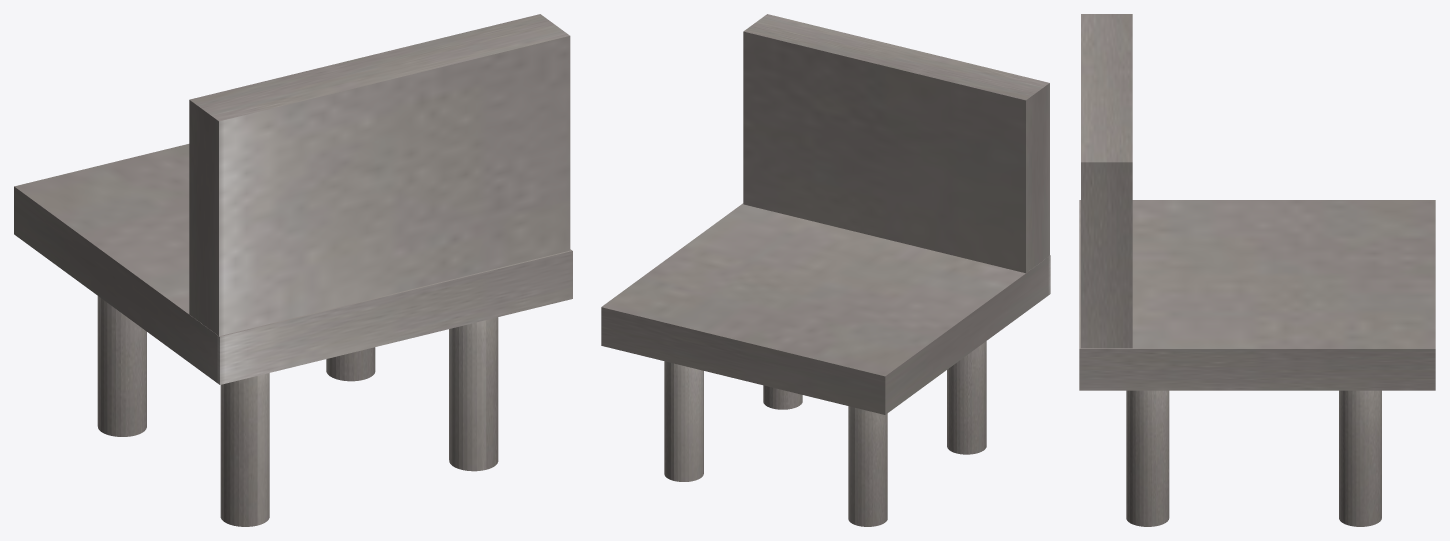
The model's file is chair.glb.
3 renders of one model, left to right at view 1: azimuth 30°, elevation 25°; view 2: azimuth 150°, elevation 25°; view 3: azimuth 270°, elevation 25°, orthographic. The views are drawn at different scales.
Parts seen in each view (by area): view 1: Cube.001; view 2: Cube.001; view 3: Cube.001.
Part boxes in pixels (left/top/right/bottom): Cube.001: left=14, top=14, right=572, bottom=526; Cube.001: left=601, top=14, right=1050, bottom=526; Cube.001: left=1079, top=14, right=1435, bottom=526.
Bounding box in the file's own units: 2 × 2.38 × 2.02.
1 material, 1 textured.
